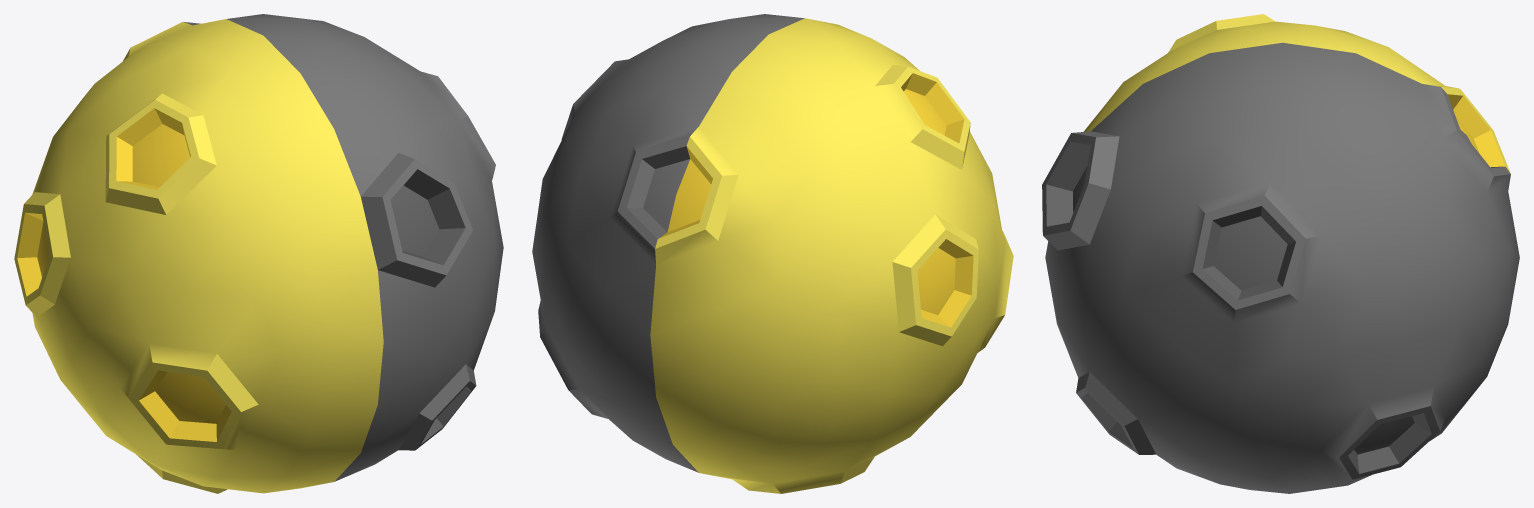
Rendered from last_quarter_moon.glb.
3 views of the same model, side by side, from view 1: azimuth 30°, elevation 25°; view 2: azimuth 150°, elevation 25°; view 3: azimuth 270°, elevation 25° (orthographic).
Parts seen in each view (by area): view 1: Icosphere.006; view 2: Icosphere.006; view 3: Icosphere.006.
Part boxes in pixels (box(x1,y1,x2,y2)): Icosphere.006: box(14, 14, 503, 493); Icosphere.006: box(532, 14, 1013, 493); Icosphere.006: box(1042, 14, 1519, 493).
Size of the model in its own units: 2.04 by 2.04 by 2.01.
Materials: 1 (1 with a texture image).
